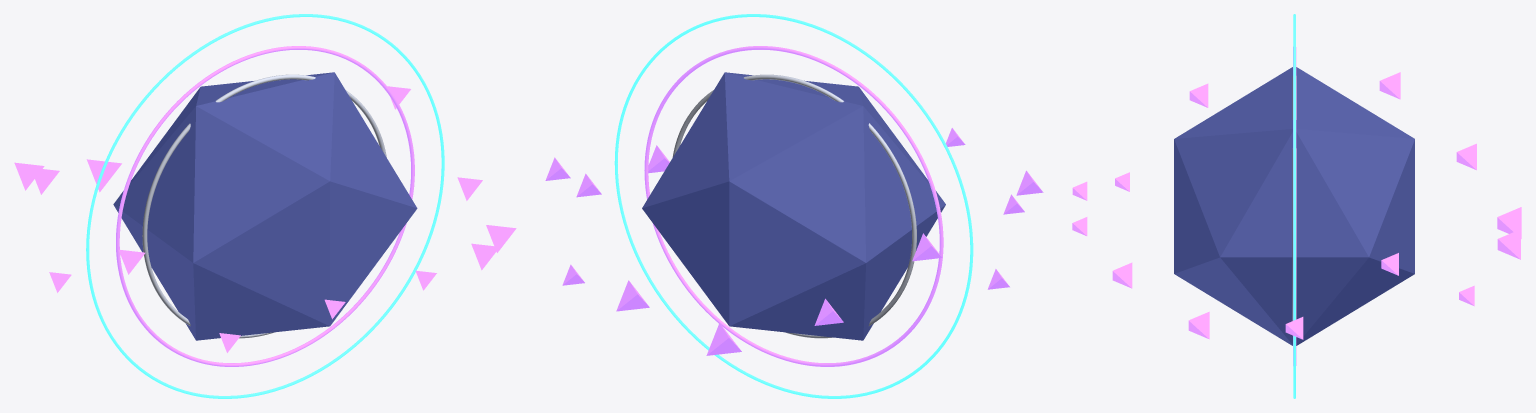
File: voxx-nexus-core.glb
3 views of the same model, side by side, from view 1: azimuth 30°, elevation 25°; view 2: azimuth 150°, elevation 25°; view 3: azimuth 270°, elevation 25° (orthographic). The views are drawn at different scales.
Parts seen in each view (by area): view 1: Crystal, RingC, RingB, Shards, RingA; view 2: Crystal, Shards, RingC, RingB, RingA; view 3: Crystal, Shards, RingC, RingB, RingA.
Boxes of the visible parts, bbox=[...] form: Crystal: bbox=[113, 72, 417, 340]; RingC: bbox=[86, 14, 444, 398]; RingB: bbox=[116, 46, 414, 366]; Shards: bbox=[14, 86, 516, 352]; RingA: bbox=[142, 74, 386, 338]; Crystal: bbox=[642, 72, 945, 340]; Shards: bbox=[545, 128, 1043, 355]; RingC: bbox=[614, 14, 973, 398]; RingB: bbox=[644, 46, 943, 366]; RingA: bbox=[672, 74, 916, 338]; Crystal: bbox=[1174, 67, 1414, 345]; Shards: bbox=[1072, 72, 1521, 339]; RingC: bbox=[1293, 14, 1295, 398]; RingB: bbox=[1293, 47, 1296, 365]; RingA: bbox=[1292, 76, 1296, 320].
Size of the model in its own units: 7.06 by 5.94 by 6.93.
